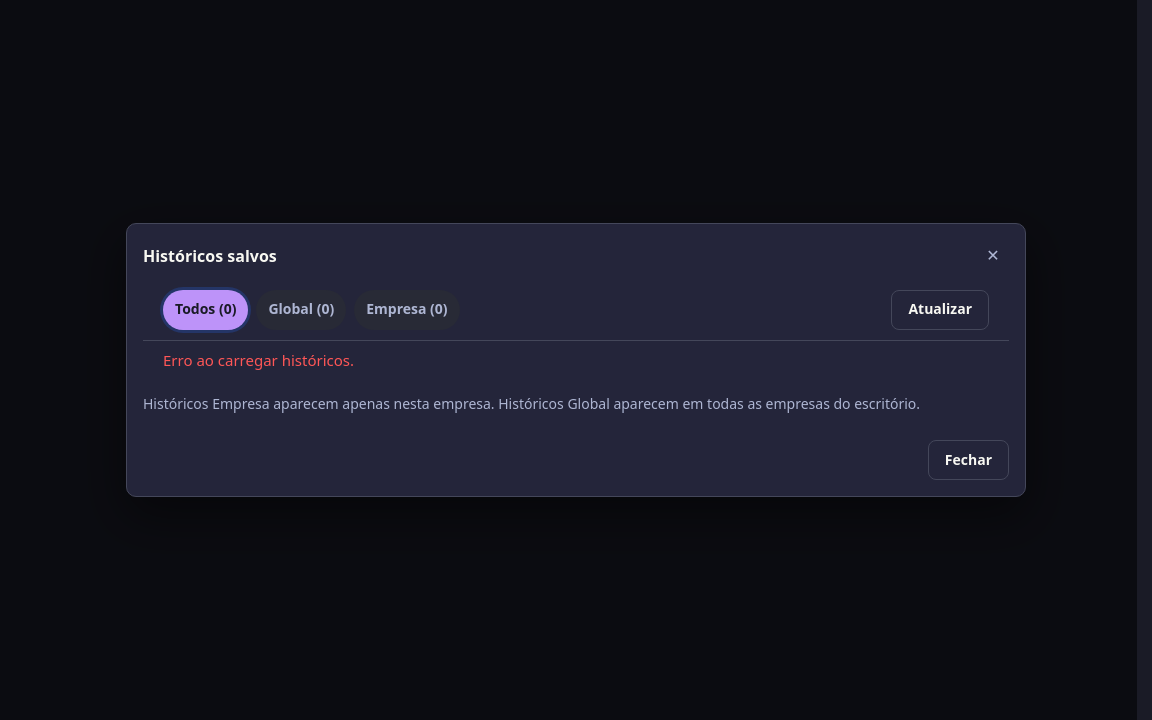
Test: erro de históricos não promete vazio e atualizar permite recuperação
Expected: the message "Erro ao carregar históricos." is shown, [163,350,354,370]
Expected: the text "Nenhum histórico encontrado" is not shown
Click the button "Atualizar".
click(940, 310)  # box [891,290,989,330]
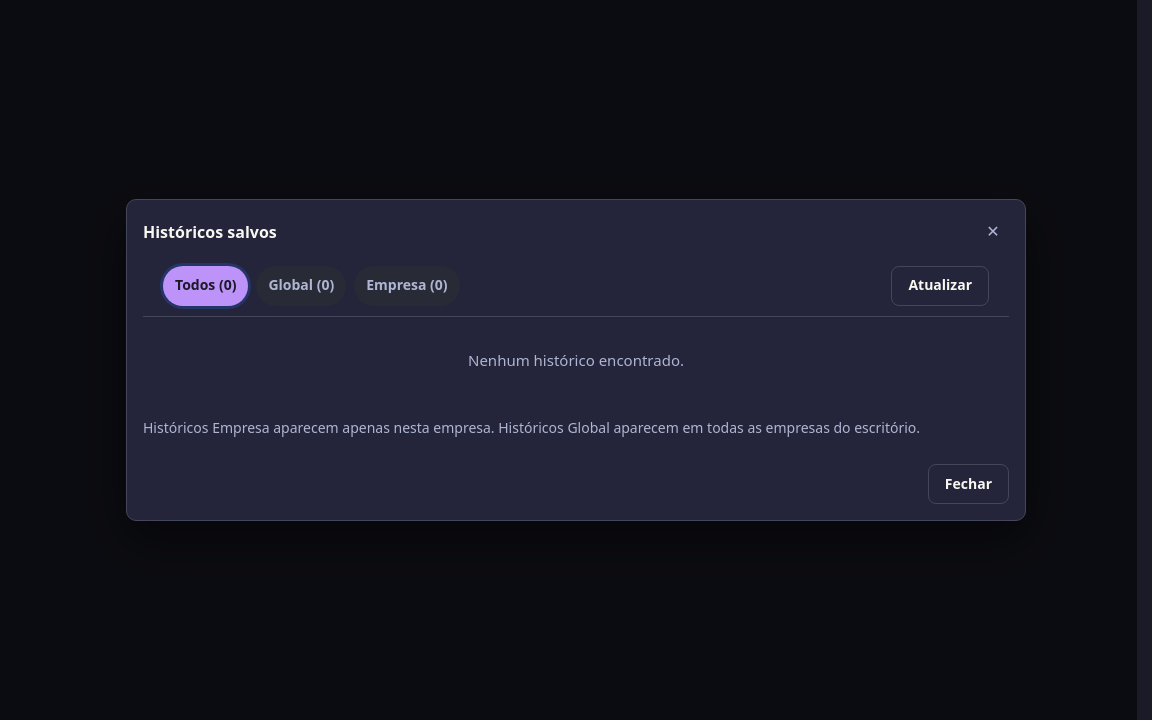
Result: the text "Nenhum histórico encontrado." is shown at [468,350,684,370]
Result: the message "Erro ao carregar históricos." is gone
